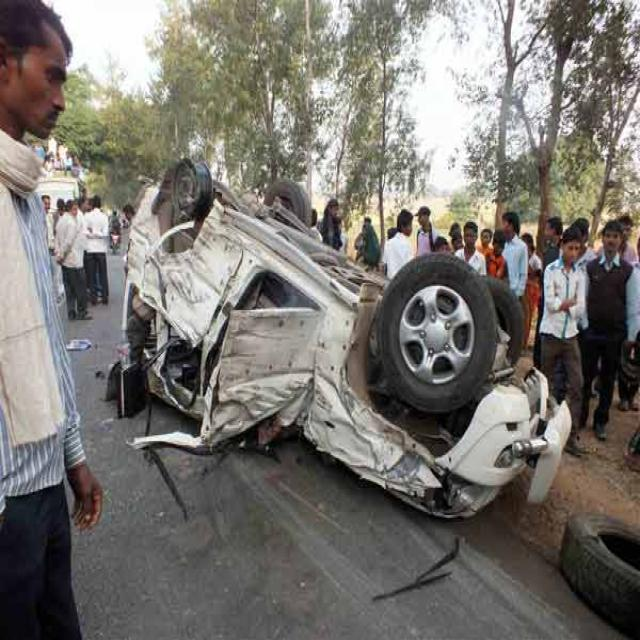accident: (110, 158, 570, 518)
